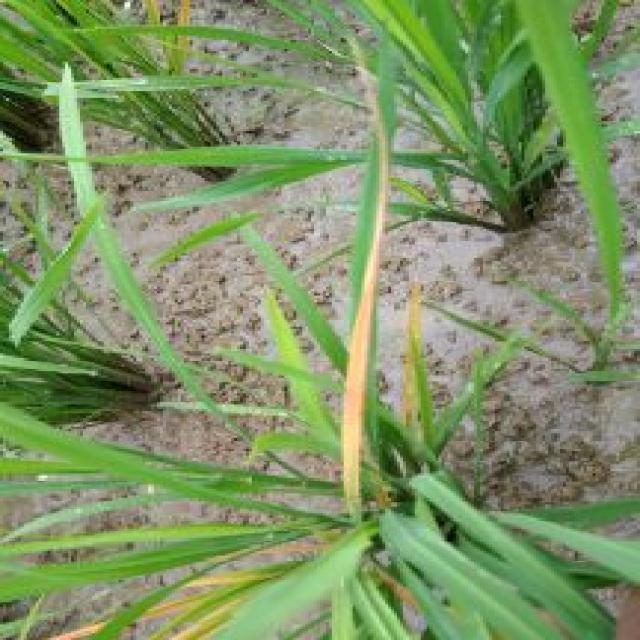Rice Tungro: (337, 267, 375, 514)
